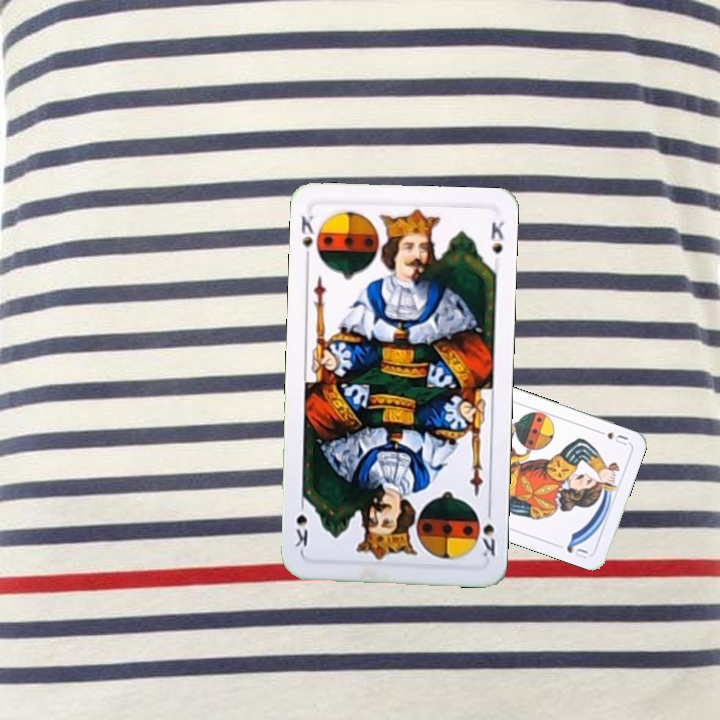SK: (473, 502, 498, 559), (297, 211, 317, 266)
SU: (592, 425, 631, 448)
